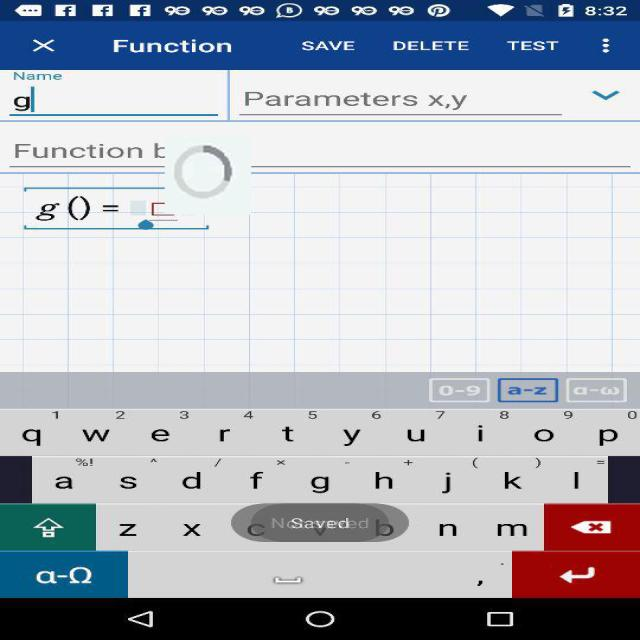misdirection: (165, 136, 251, 214)
